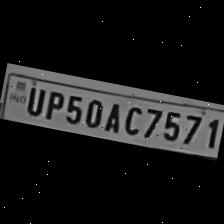0: (80, 96, 106, 130)
1: (198, 114, 222, 150)
5: (156, 107, 184, 144), (59, 92, 85, 125)
7: (178, 110, 203, 146), (139, 104, 162, 140)
A: (100, 98, 124, 134)
C: (119, 101, 146, 137)
P: (41, 87, 66, 122)
U: (21, 84, 47, 116)
